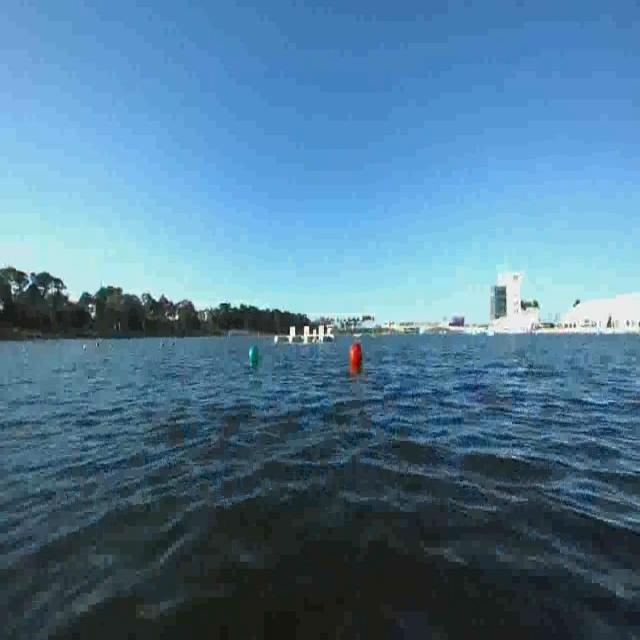green-buoy: (250, 345, 260, 363)
red-buoy: (349, 341, 363, 368)
